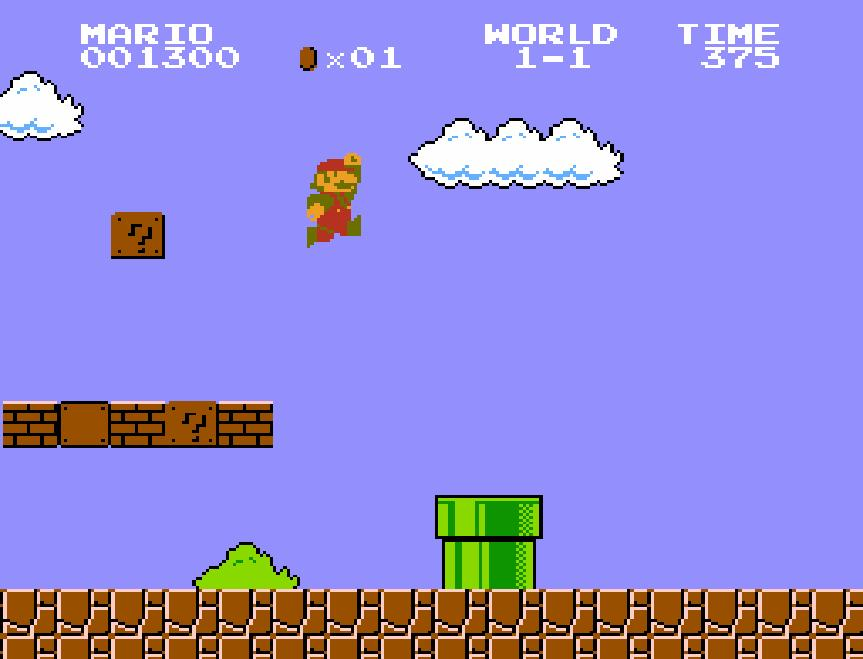big_mario: (304, 150, 362, 249)
